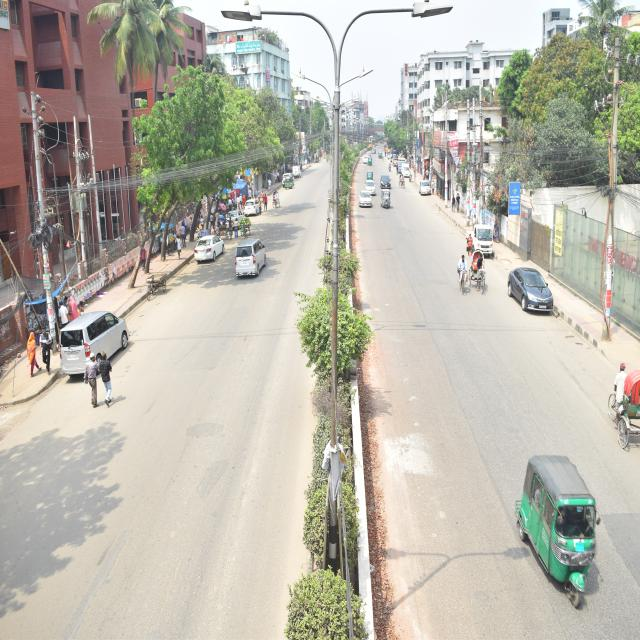car: (25, 283, 148, 385), (510, 260, 565, 324), (226, 231, 285, 287), (242, 181, 280, 250), (180, 230, 239, 269), (215, 203, 252, 240), (410, 167, 436, 204), (352, 188, 375, 220), (379, 171, 396, 196), (363, 177, 378, 205), (398, 164, 416, 186), (280, 164, 294, 191), (360, 152, 372, 168)
pickup-van: (463, 212, 506, 273), (293, 160, 303, 187)
